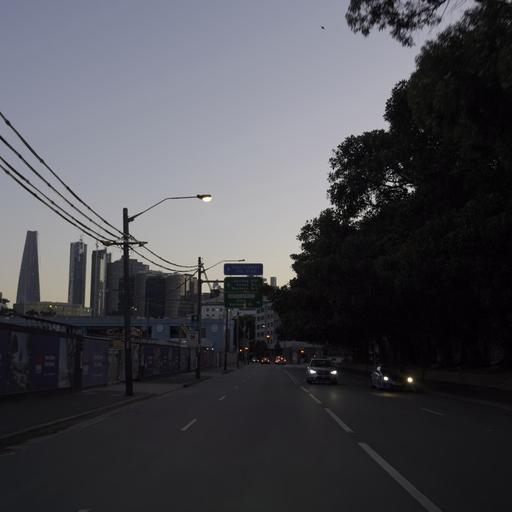Street light: (121, 192, 212, 395), (194, 257, 245, 378)
